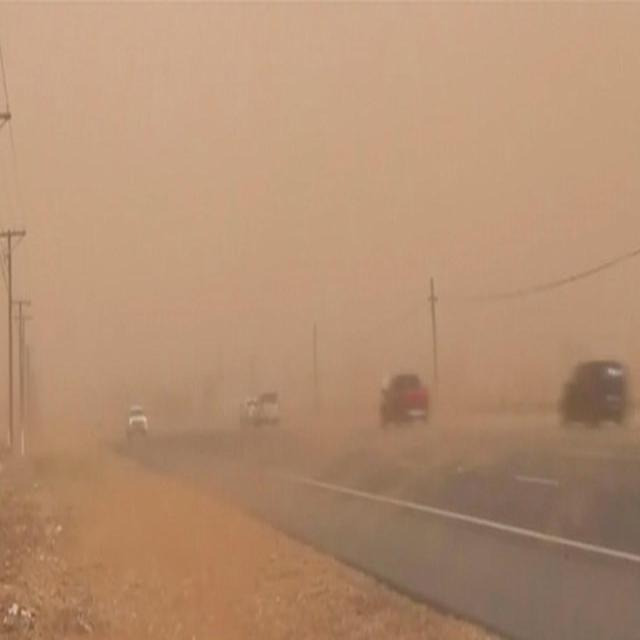Car: (552, 346, 630, 434), (368, 354, 436, 436), (116, 390, 151, 453), (260, 378, 292, 440), (240, 385, 260, 431)
